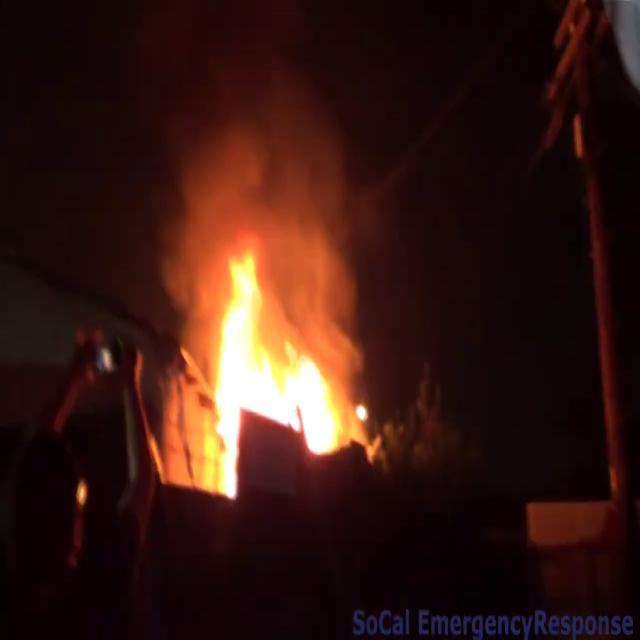Fire: (194, 228, 352, 492)
Smoke: (154, 38, 374, 296)
